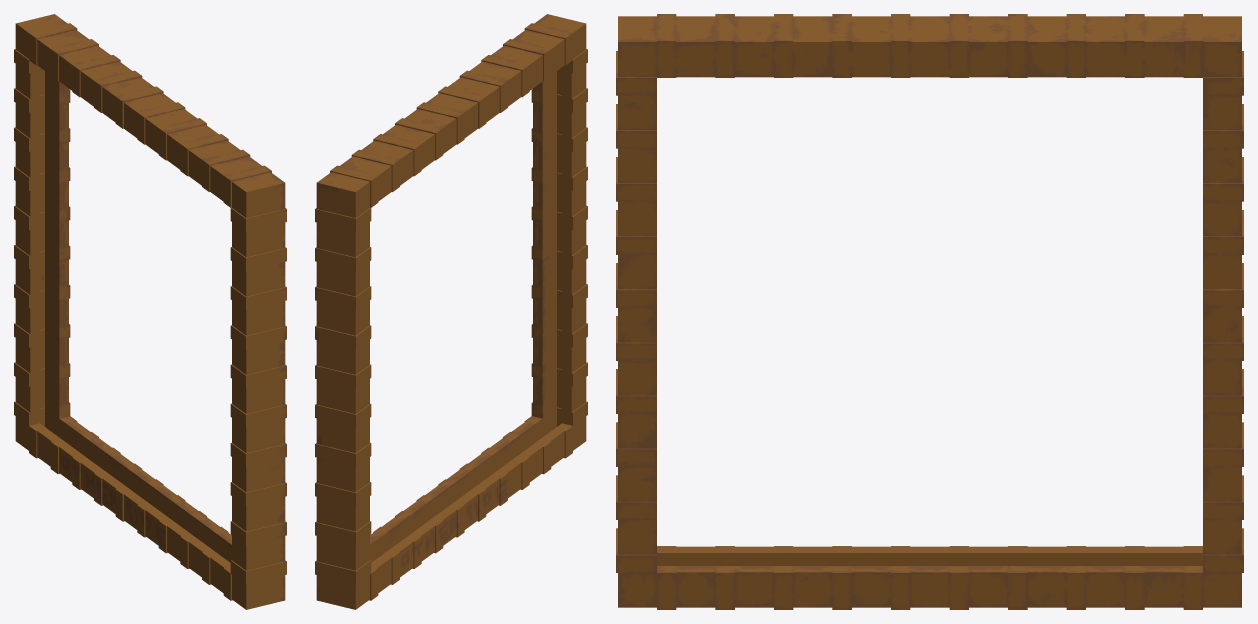
File: level.fbx
3 renders of one model, left to right at view 1: azimuth 30°, elevation 25°; view 2: azimuth 150°, elevation 25°; view 3: azimuth 270°, elevation 25°, orthographic. The views are drawn at different scales.
Parts seen in each view (by area): view 1: Cube; view 2: Cube; view 3: Cube.
Part boxes in pixels (x1,y1,x2,y2): Cube: [14, 14, 286, 609]; Cube: [315, 14, 587, 609]; Cube: [616, 14, 1243, 609].
Size of the model in its own units: 379 by 3705 by 3705.
